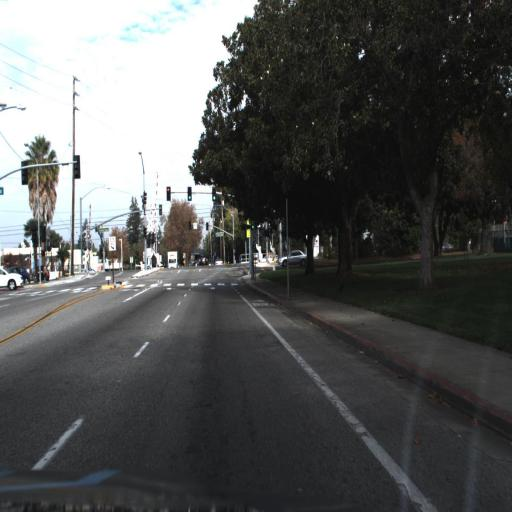car: (276, 250, 308, 271), (0, 263, 23, 291), (32, 263, 50, 281), (195, 250, 209, 270), (212, 254, 225, 270)
trafficLight-Green: (210, 186, 218, 202), (186, 186, 192, 202), (187, 184, 192, 202)
trafficLight-RedLeft: (165, 180, 174, 206), (165, 185, 171, 199)
truck: (162, 245, 176, 271)
